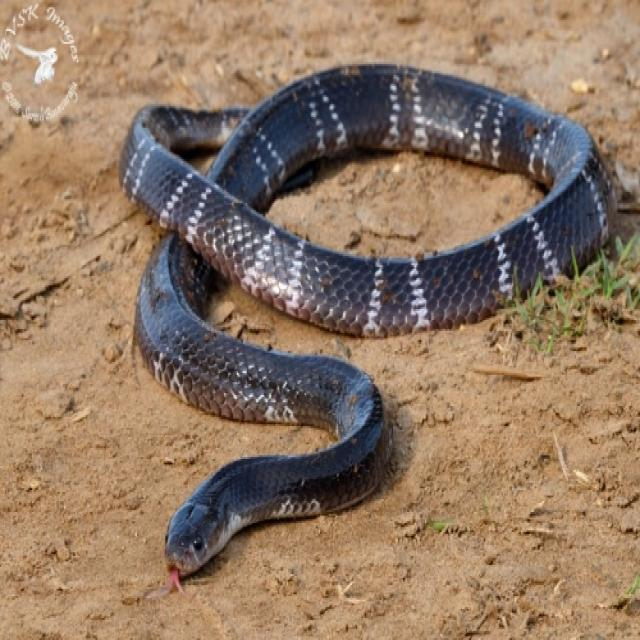Snake: (118, 60, 617, 598)
